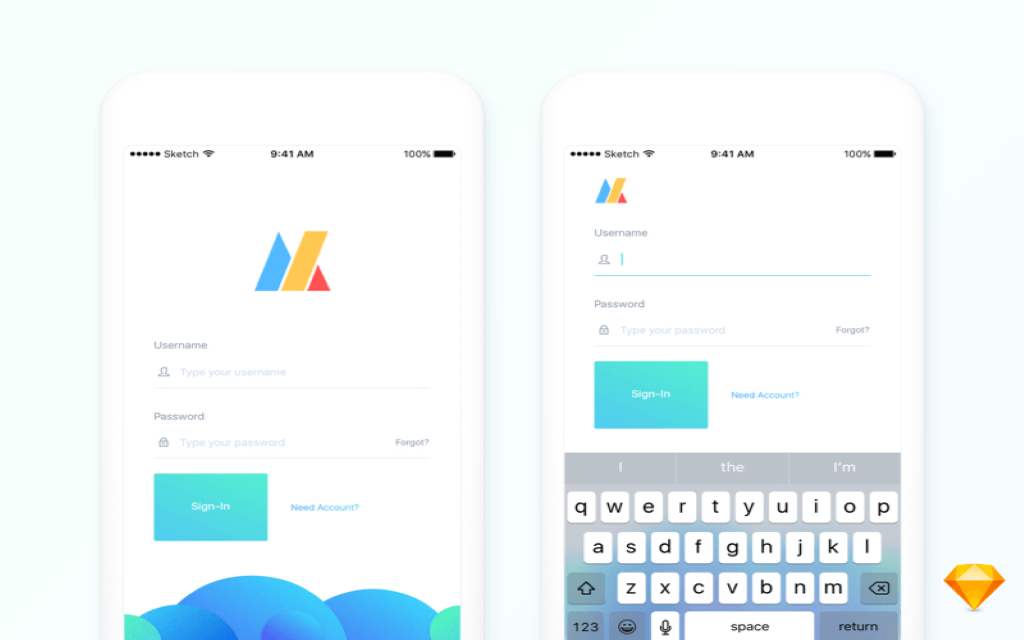button: (154, 473, 267, 541), (595, 362, 707, 427)
label_Username: (590, 224, 651, 240), (154, 339, 209, 354)
label_password: (592, 294, 649, 312), (152, 410, 209, 425)
textbox: (174, 357, 427, 385), (621, 246, 863, 273), (620, 317, 834, 341), (178, 431, 384, 455)
